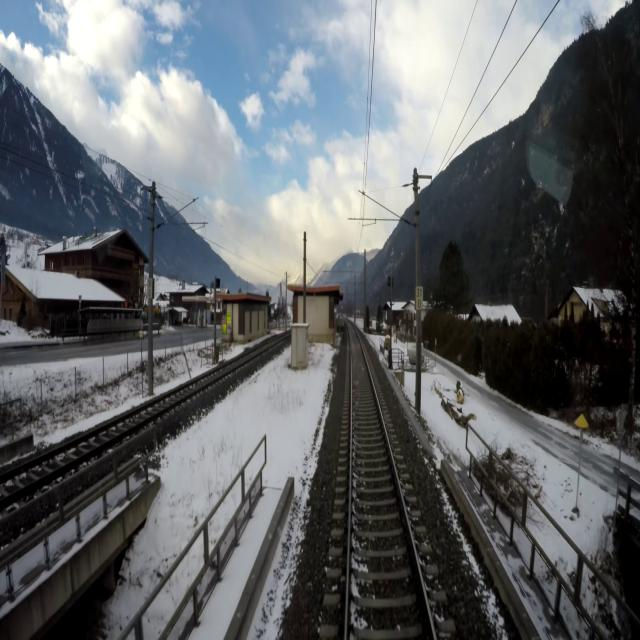rail-track: (0, 343, 270, 497), (348, 323, 432, 639)
